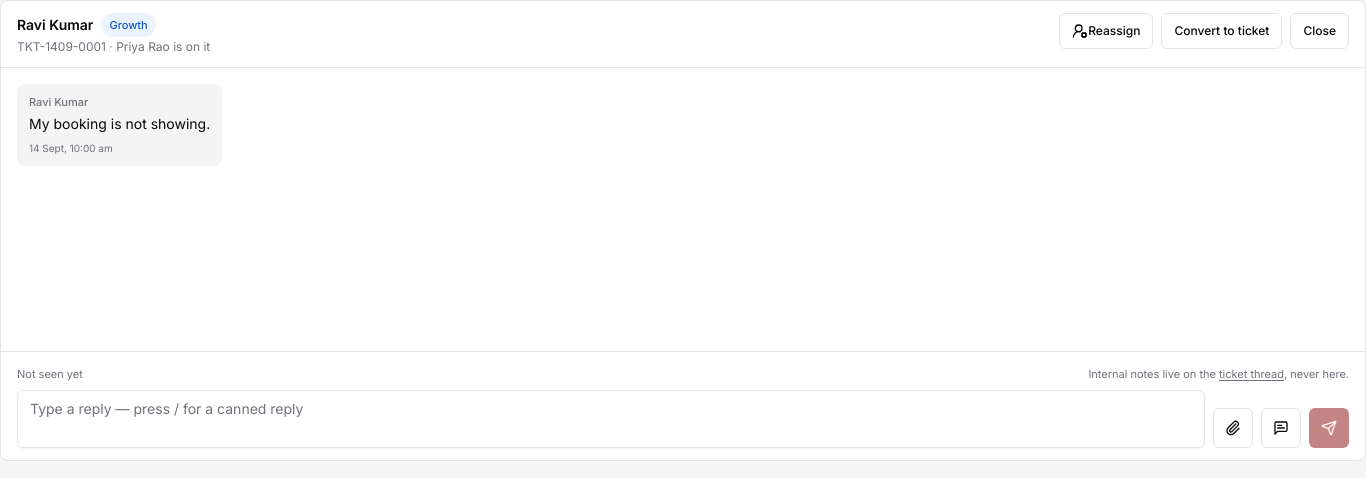
Test: the live chat pane › inserts a canned reply over the '/' that opened the picker
Expected: the text "My booking is not showing." is shown, [29,114,210,134]
Type "Hi Ravi — /refu" into the text box named "Reply to this chat" at (611, 419), box [17,390,1205,448]
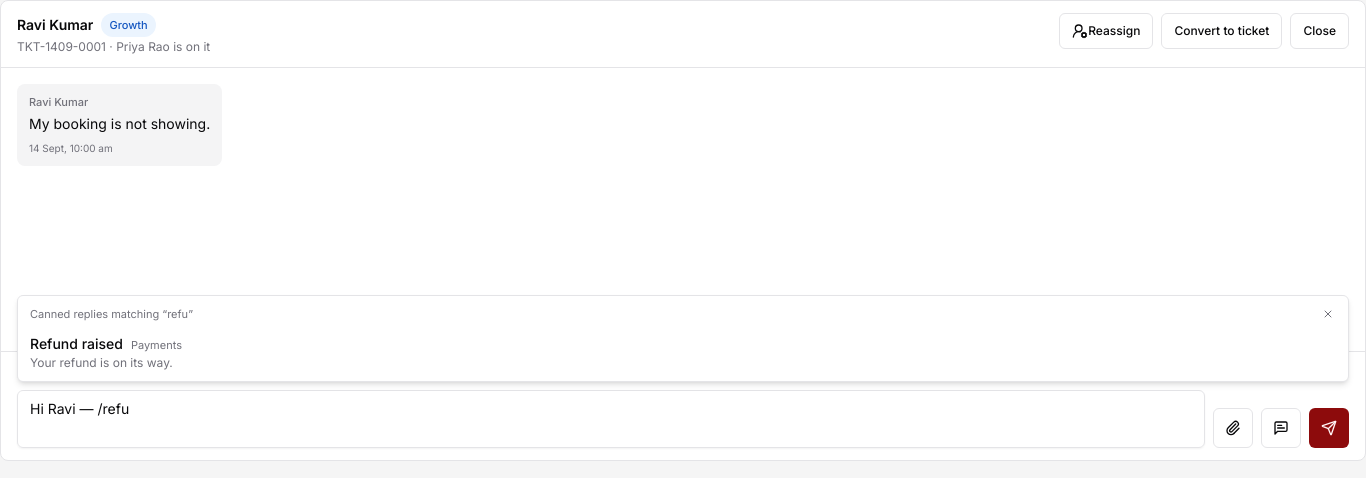
Click the option "Refund raised" at (76, 343), box [22,328,1344,377]
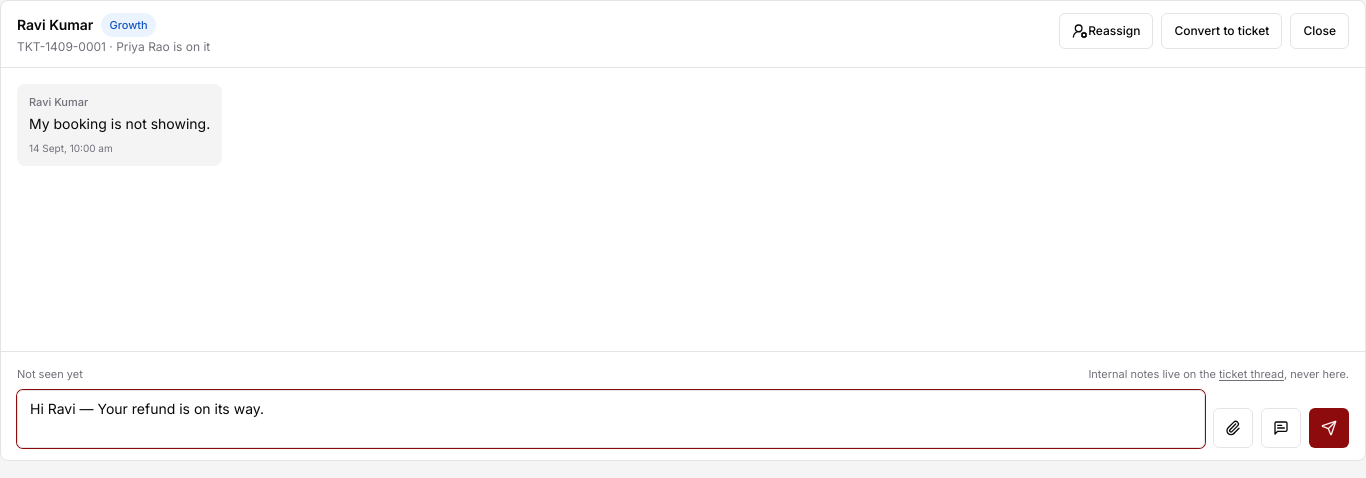
Result: the text box named "Reply to this chat" holds "Hi Ravi — Your refund is on its way." at [17,390,1205,448]
